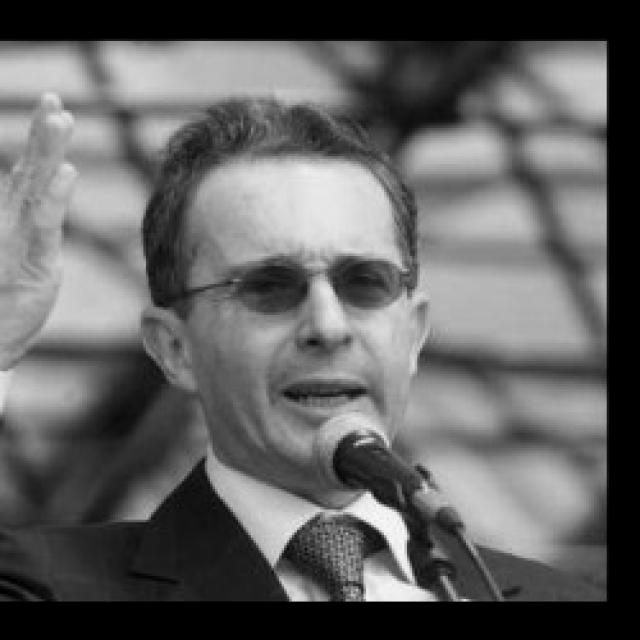fake: (225, 255, 409, 309)
real: (182, 158, 418, 484)
